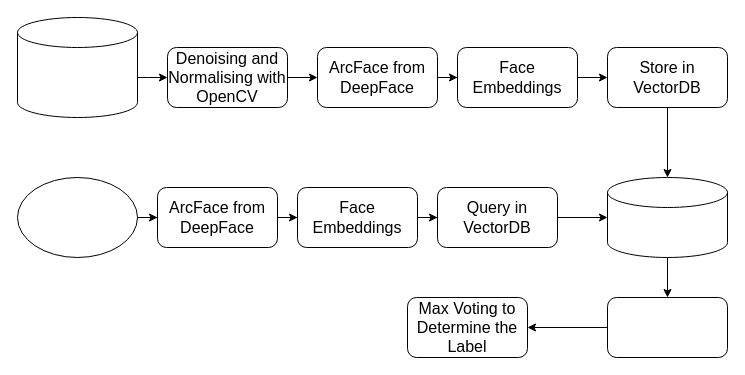
Some shapes in this 745 by 375 pixel diagram are drawn without their labels. Here are the shapes that lost their labels. From the top down, the centre of each, then its label:
At (x=77, y=67): "FaceCOM Image Collection".
At (x=77, y=217): "Unknown Face".
At (x=667, y=217): "ChromaDB".
At (x=667, y=327): "Retrieve Top_K matches with their Labels".
